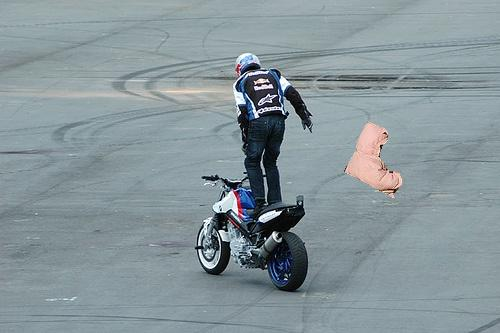tampered: (345, 122, 402, 198)
